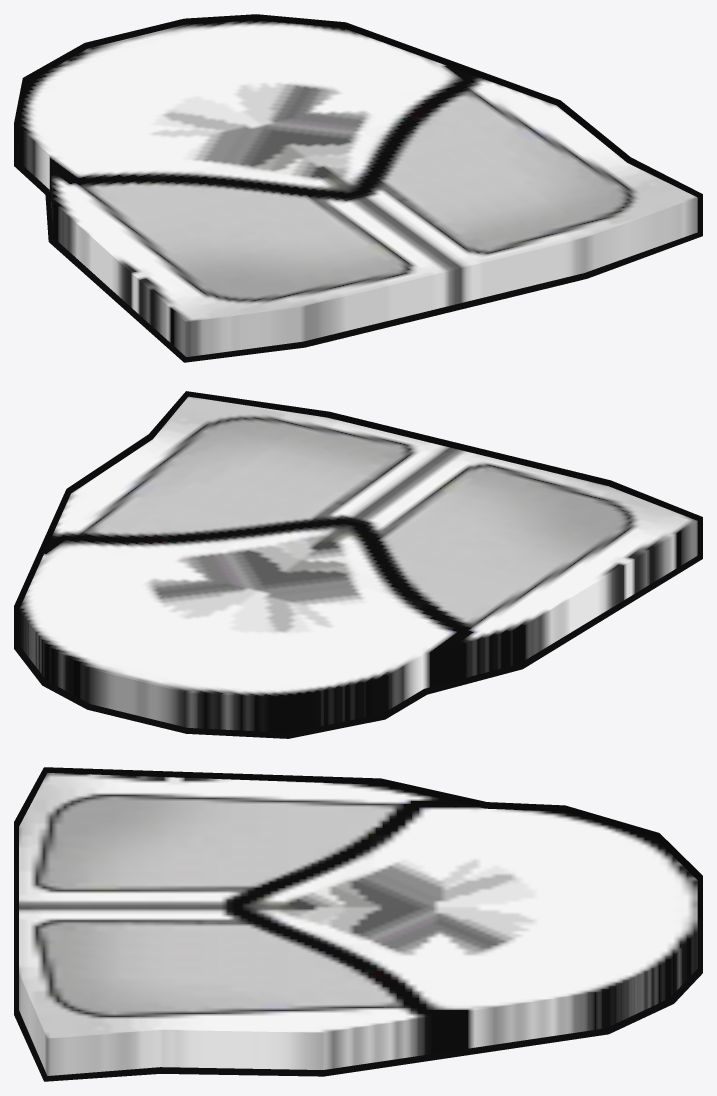
Rendered from Item_Apparel_FlakJacket_Things_Pawn_Humanlike_Apparel_FlakJacket_FlakJacket_fat.glb.
The picture shows the model from 3 angles, top to bottom: view 1: azimuth 30°, elevation 25°; view 2: azimuth 150°, elevation 25°; view 3: azimuth 270°, elevation 25°; orthographic projection. The views are drawn at different scales.
Visible parts, largest first — view 1: Body, Outline; view 2: Body, Outline; view 3: Body, Outline.
Boxes of the visible parts, left/top/right/bottom form: Body: left=19, top=20, right=697, bottom=356; Outline: left=14, top=14, right=702, bottom=362; Body: left=19, top=396, right=697, bottom=732; Outline: left=14, top=391, right=702, bottom=738; Body: left=19, top=773, right=697, bottom=1075; Outline: left=14, top=767, right=702, bottom=1081.
Bounding box in the file's own units: 0.7057 × 0.0573 × 0.7614.
Materials: 2 (1 with a texture image).
